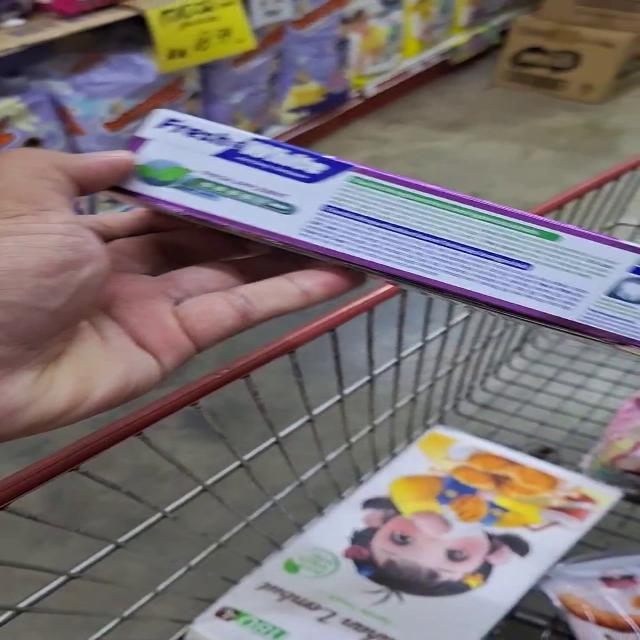Tisu: (160, 510, 521, 640), (333, 425, 640, 576)
Ubat Gigi: (111, 102, 485, 285), (395, 182, 640, 355)
